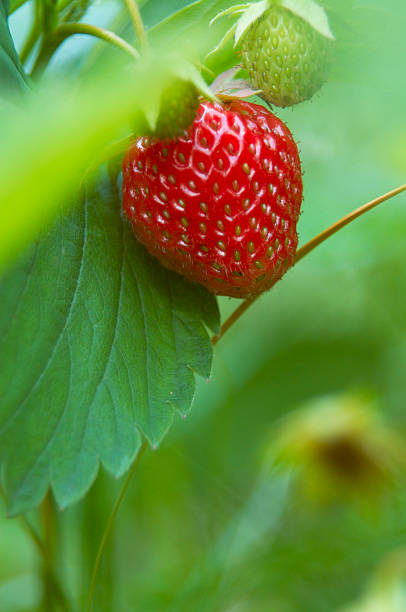Fresa: (120, 89, 308, 309)
